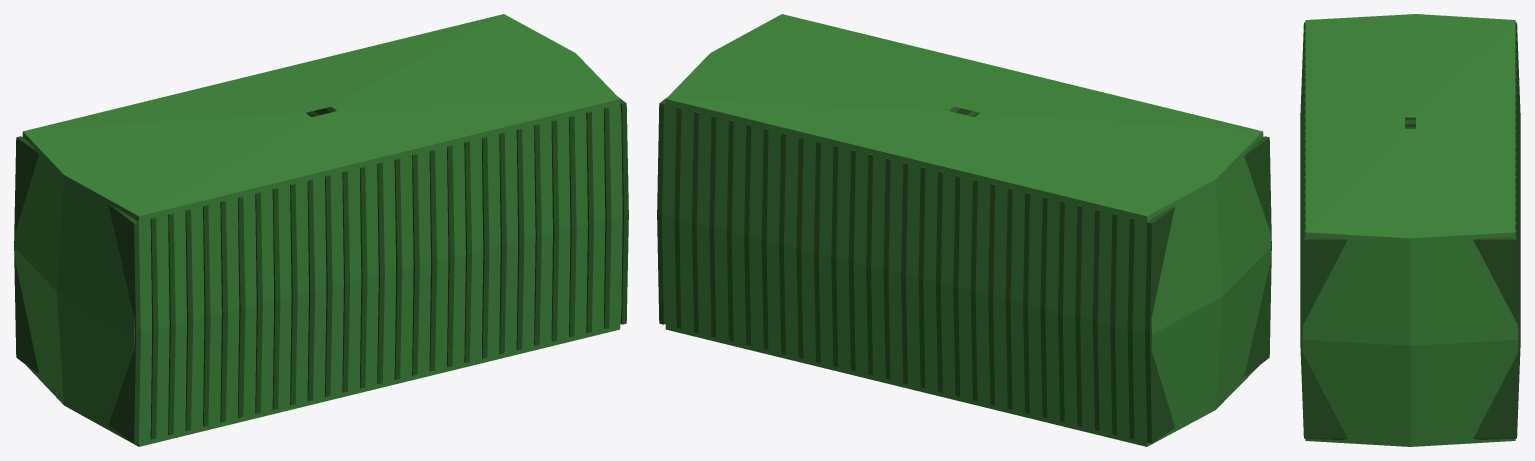
Rendered from s-container-3.glb.
The picture shows the model from 3 angles, left to right: view 1: azimuth 30°, elevation 25°; view 2: azimuth 150°, elevation 25°; view 3: azimuth 270°, elevation 25°; orthographic projection. The views are drawn at different scales.
Visible parts, largest first — view 1: p; view 2: p; view 3: p.
Part boxes in pixels (x1,y1,x2,y2): p: [14, 14, 628, 446]; p: [657, 14, 1271, 446]; p: [1300, 14, 1520, 446].
Size of the model in its own units: 6 by 2.6 by 2.42.
